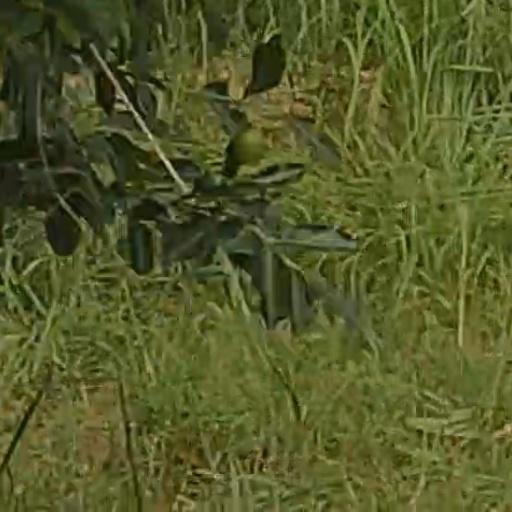acerola_verde: (233, 127, 265, 163)
